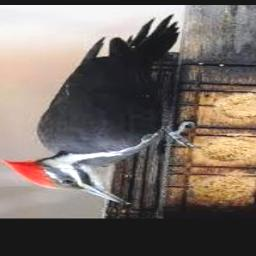Woodpecker: (0, 15, 197, 205)
